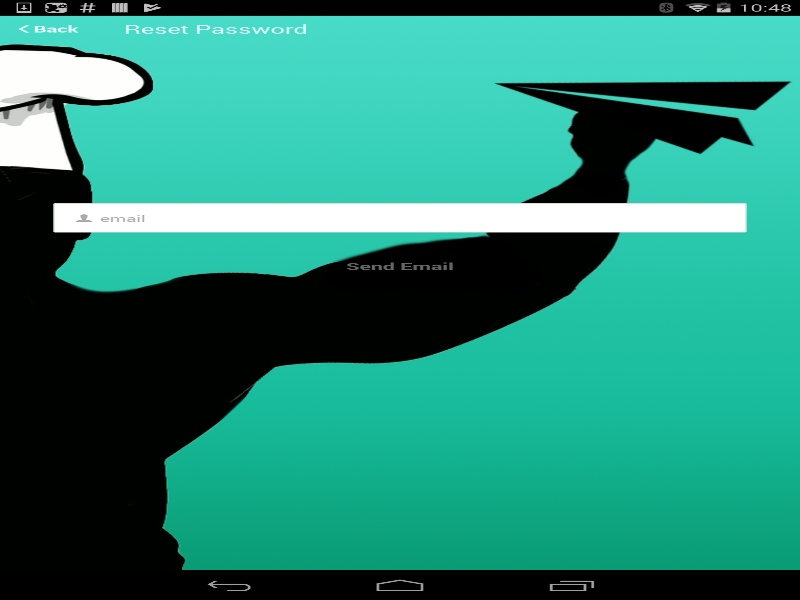Button: (0, 15, 97, 43)
